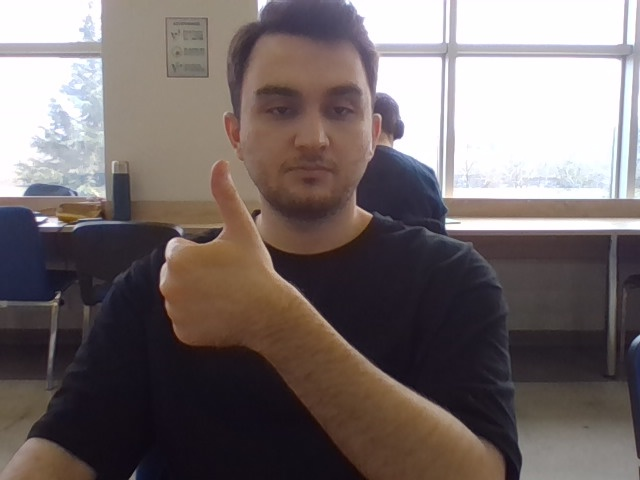thumbsup: (157, 158, 273, 349)
